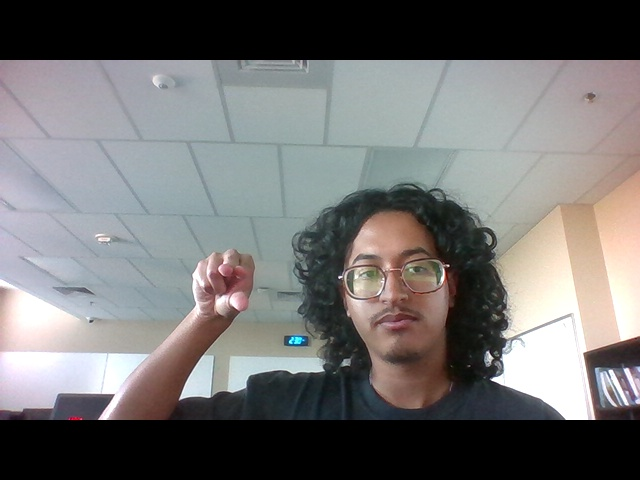no: (180, 240, 269, 333)
